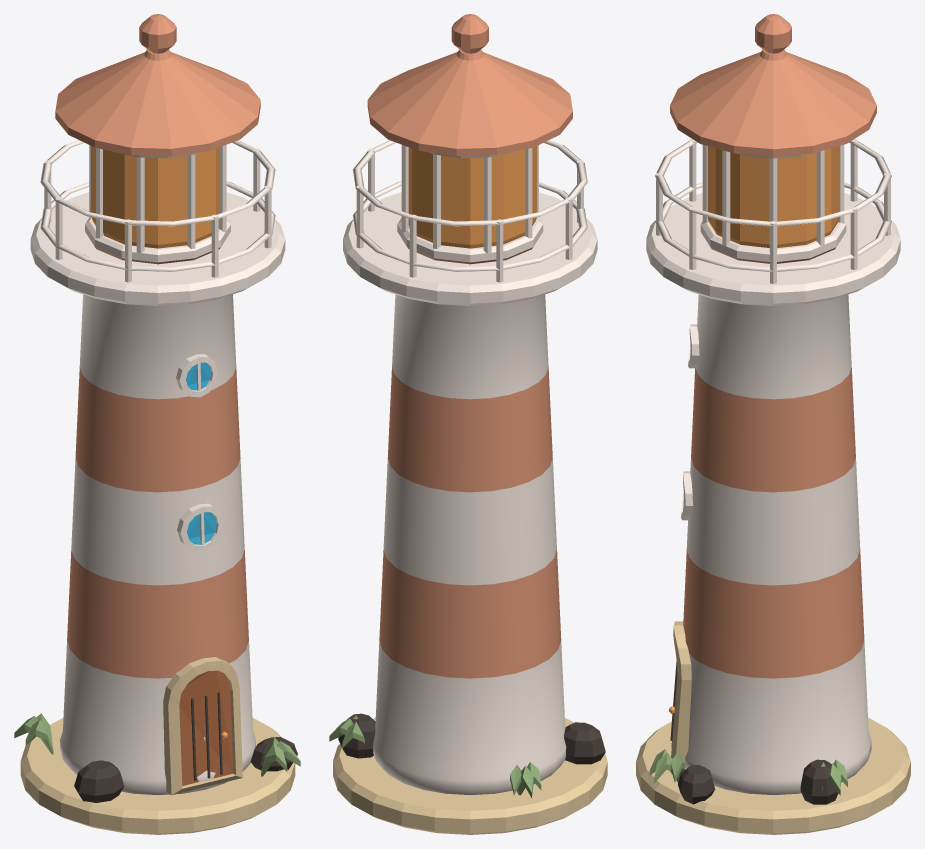
The model's file is lighthouse.glb.
3 views of the same model, side by side, from view 1: azimuth 30°, elevation 25°; view 2: azimuth 150°, elevation 25°; view 3: azimuth 270°, elevation 25° (orthographic).
Visible parts, largest first — view 1: lighthouse; view 2: lighthouse; view 3: lighthouse.
Boxes of the visible parts, x1,y1,x2,y2 form: lighthouse: (14,14,300,834); lighthouse: (329,14,607,834); lighthouse: (636,14,910,834).
Size of the model in its own units: 1.5 by 4.6 by 1.5.
1 material, 1 textured.
